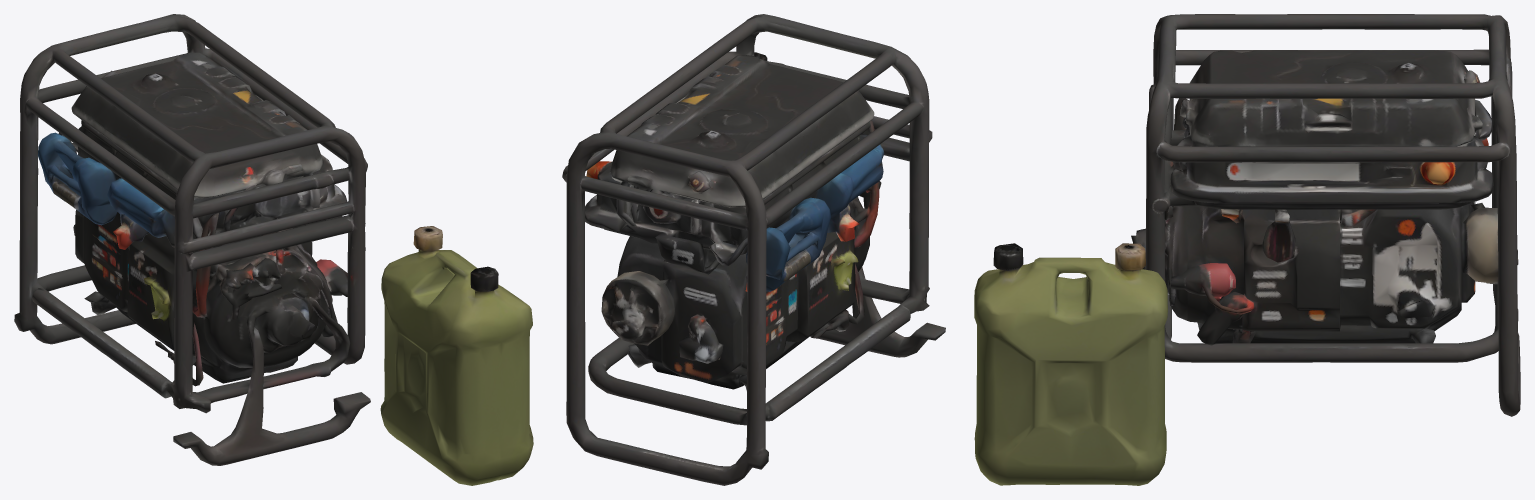
Rendered from generator.glb.
The picture shows the model from 3 angles, left to right: view 1: azimuth 30°, elevation 25°; view 2: azimuth 150°, elevation 25°; view 3: azimuth 270°, elevation 25°; orthographic projection. The views are drawn at different scales.
Parts seen in each view (by area): view 1: tripo_node_26b365ba-e1fd-464d-9ab8-e088d8c02af2; view 2: tripo_node_26b365ba-e1fd-464d-9ab8-e088d8c02af2; view 3: tripo_node_26b365ba-e1fd-464d-9ab8-e088d8c02af2.
Part boxes in pixels (left/top/right/bottom): tripo_node_26b365ba-e1fd-464d-9ab8-e088d8c02af2: left=14, top=14, right=533, bottom=485; tripo_node_26b365ba-e1fd-464d-9ab8-e088d8c02af2: left=562, top=14, right=945, bottom=485; tripo_node_26b365ba-e1fd-464d-9ab8-e088d8c02af2: left=974, top=14, right=1520, bottom=485.
Bounding box in the file's own units: 0.9363 × 0.9758 × 1.4.
Materials: 1 (1 with a texture image).
